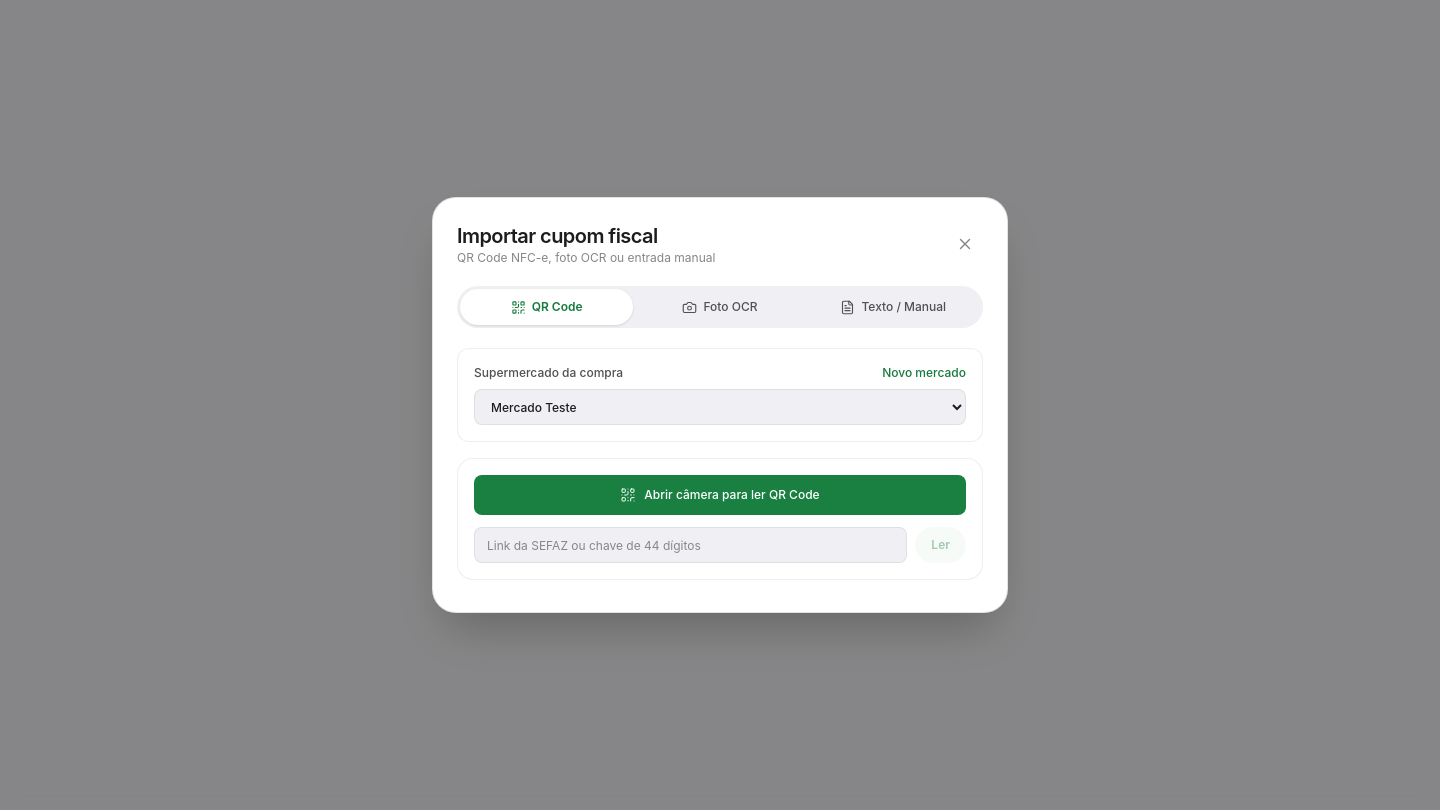
Test case: ReceiptImportModal item editing and gestures › swipes left from right to left to remove an item from the identified items list
The width and height of the screenshot is (1440, 810).
Click the button "Texto / Manual" at (893, 307), box [807,289,980,325]
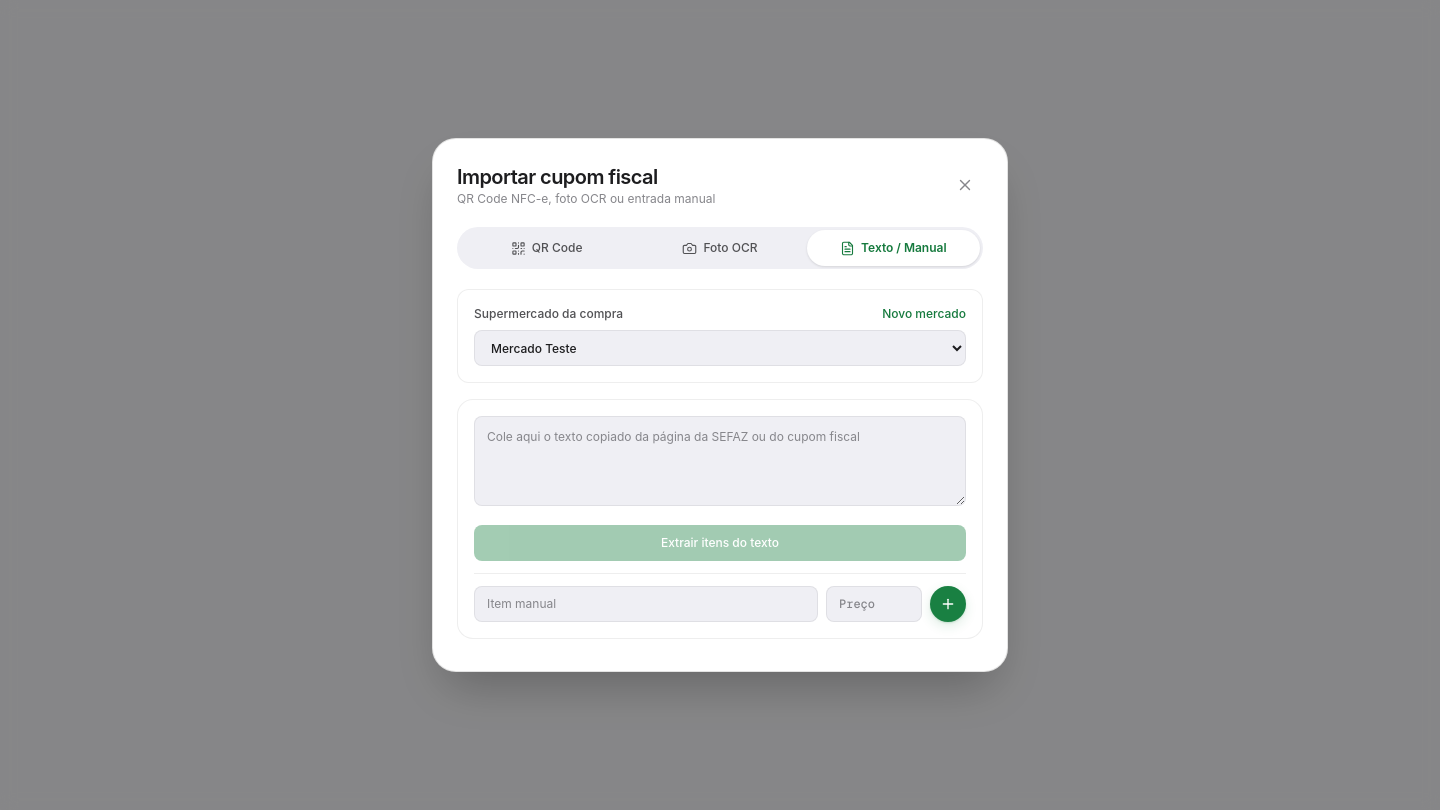
Type "Pimentao Verde" into the field with placeholder "Item manual" at (646, 604), box [474,586,818,622]
Type "8,93" into the field with placeholder "Preço" at (874, 604), box [826,586,922,622]
Click the button named "Adicionar item manual" at (948, 604), box [930,586,966,622]
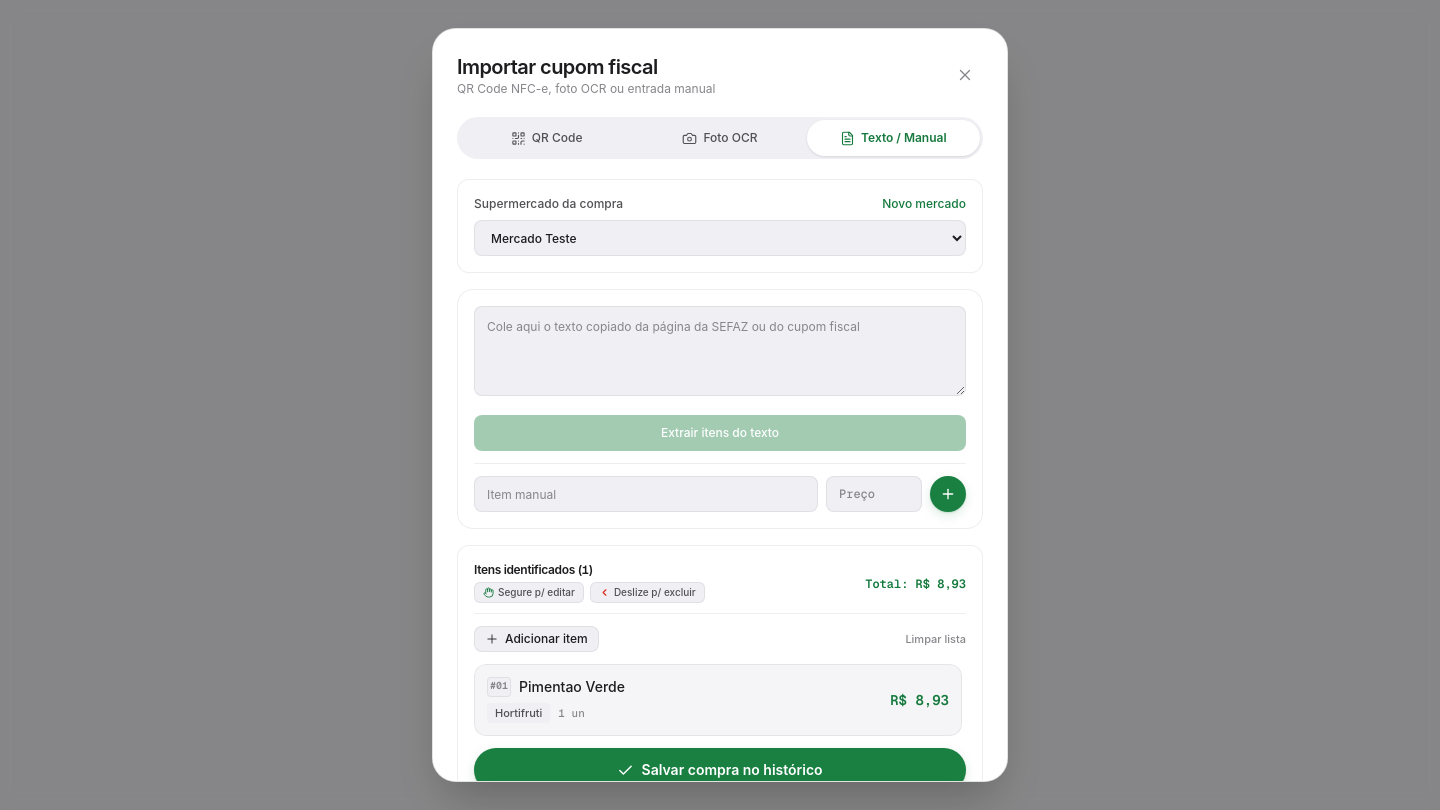
Type "Tomate Salada" into the field with placeholder "Item manual" at (646, 494), box [474,476,818,512]
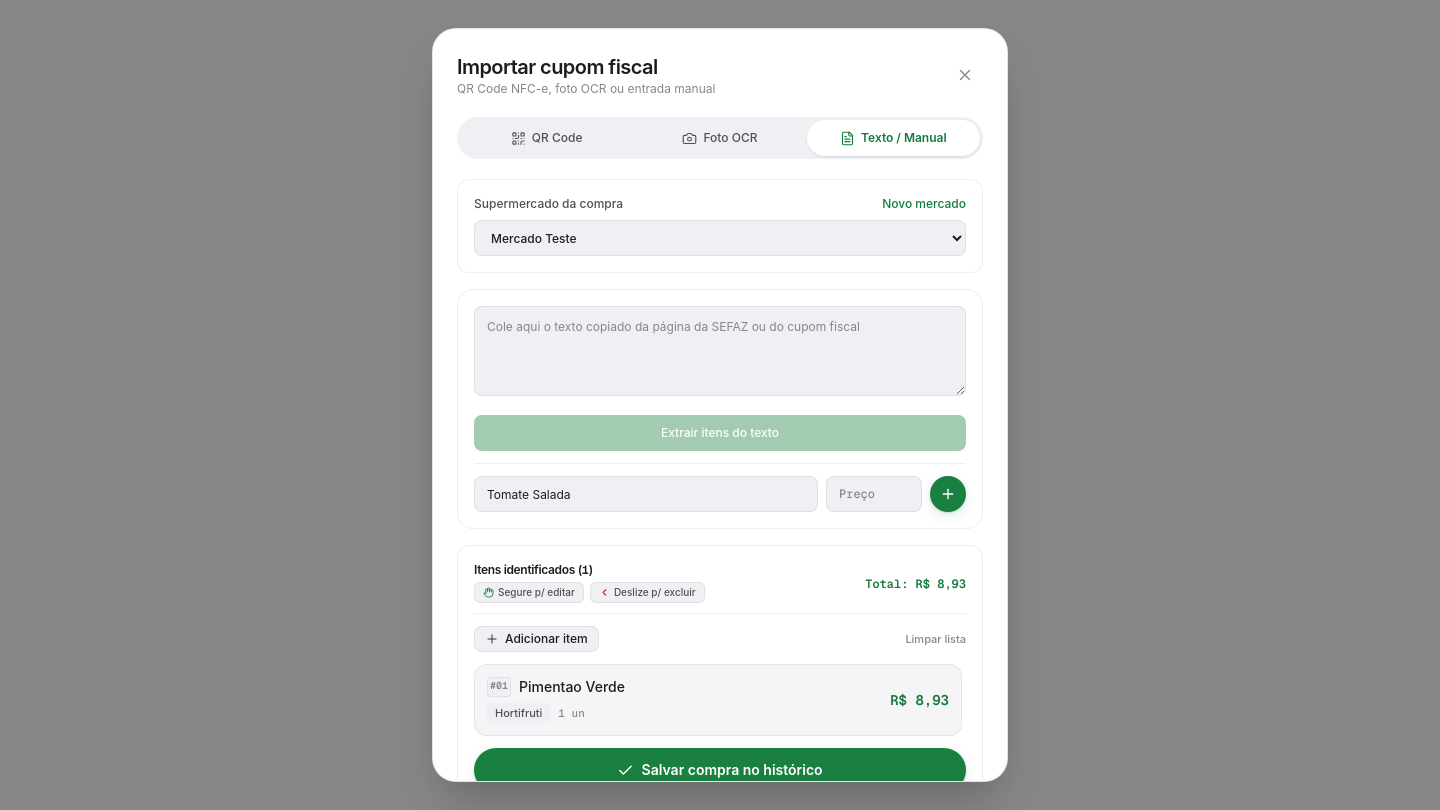
Type "9,63" into the field with placeholder "Preço" at (874, 494), box [826,476,922,512]
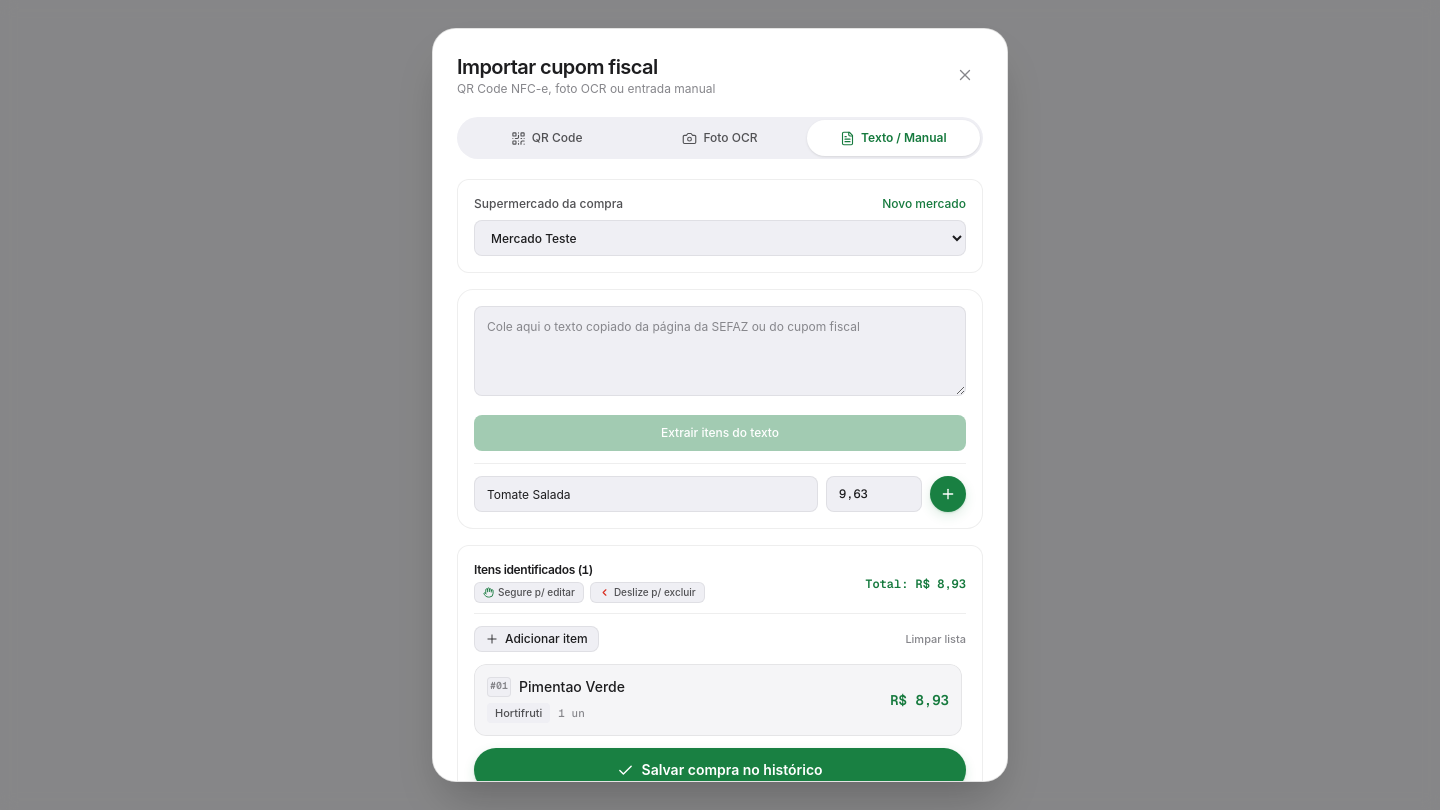
Click the button named "Adicionar item manual" at (948, 494), box [930,476,966,512]
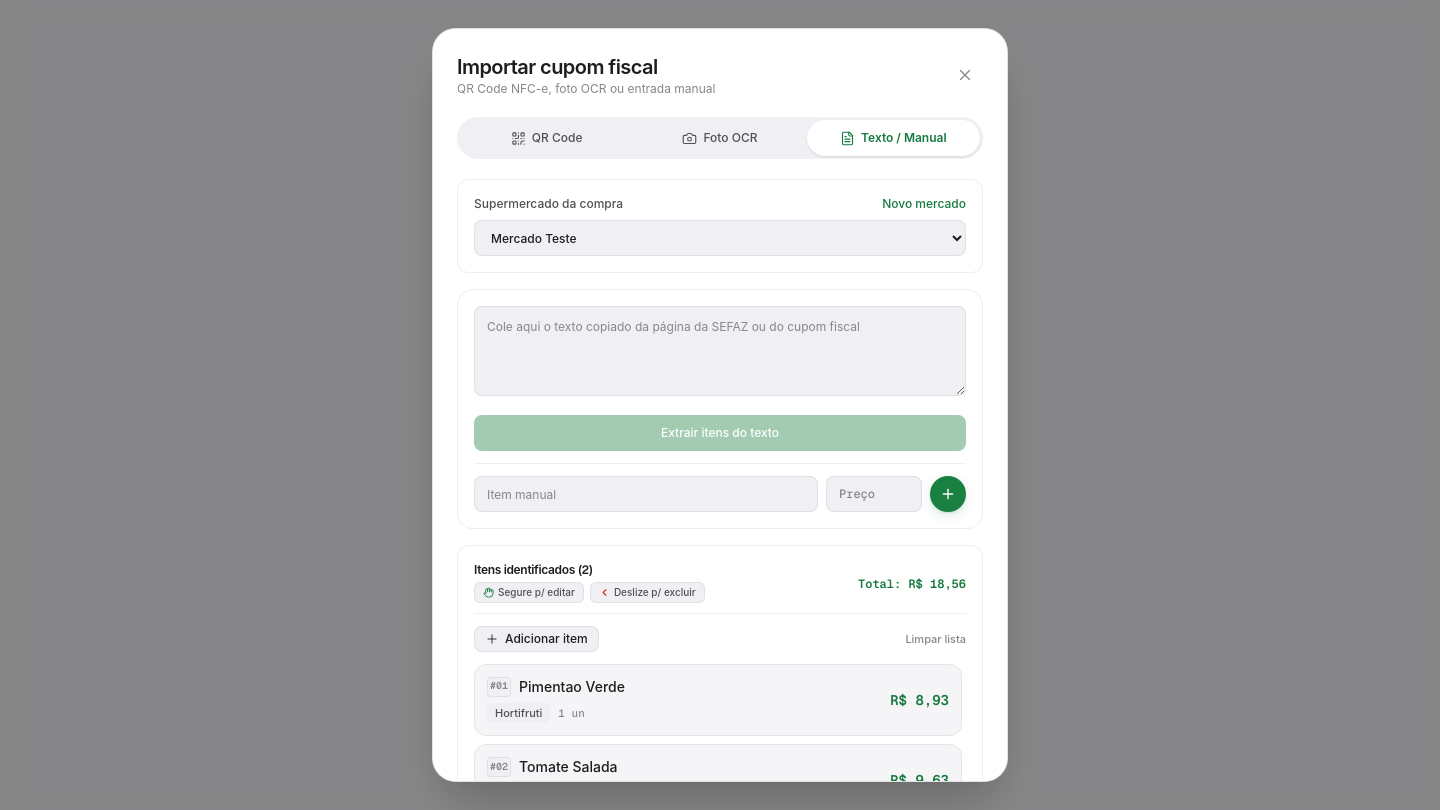
Check: the text "Pimentao Verde" is shown, box [519,677,625,697]
Check: the text "Tomate Salada" is shown, box [519,757,618,777]
Check: the text "Total: R$ 18,56" is shown, box [858,576,966,592]
Press the mouse on the text "Pimentao Verde" at (718, 700), box [474,664,962,736]
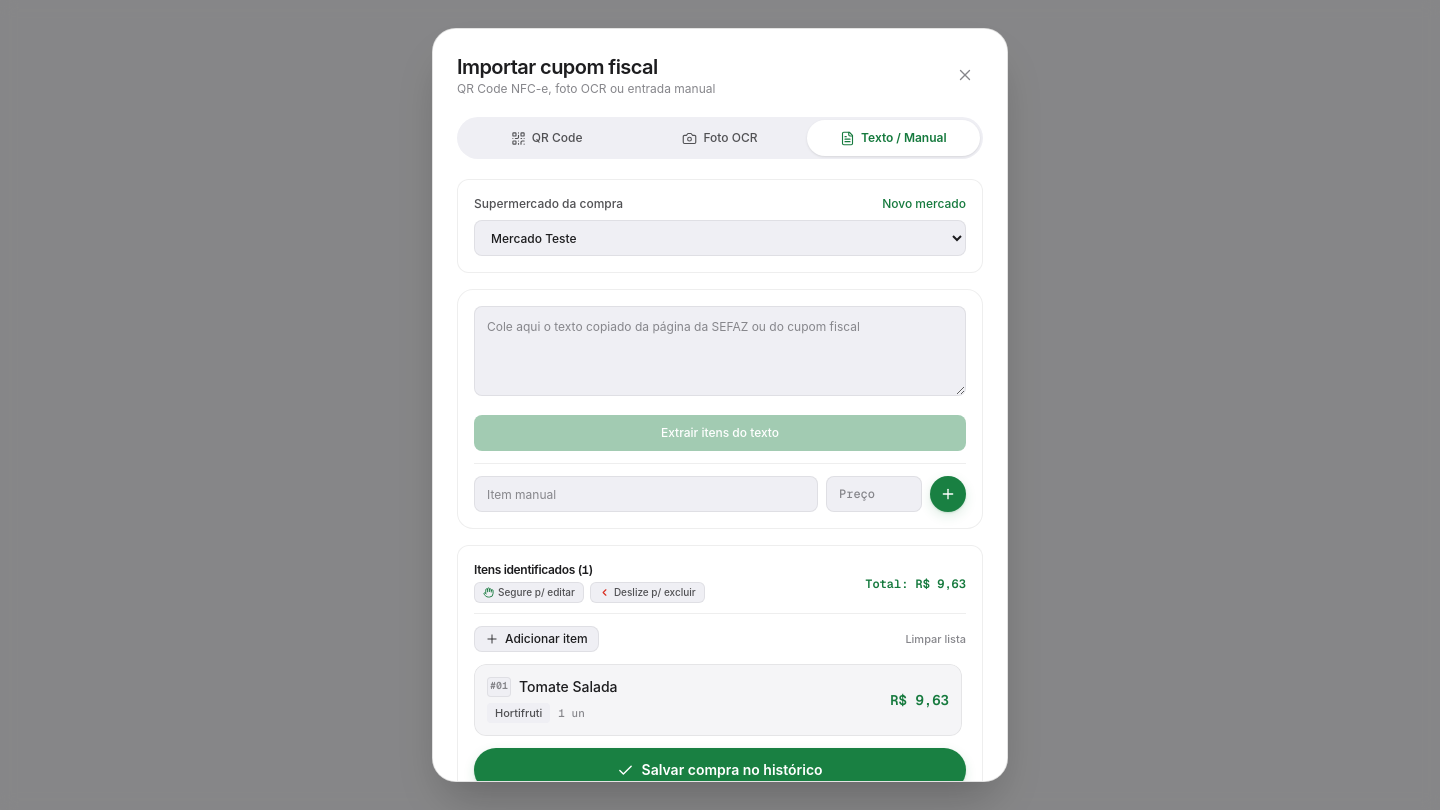
Check: the text "Tomate Salada" is shown, box [519,677,618,697]
Check: the text "Pimentao Verde" is gone
Check: the text "Total: R$ 9,63" is shown, box [865,576,966,592]
